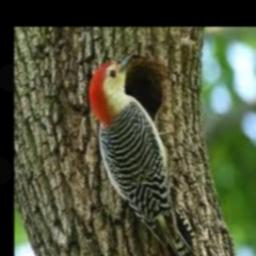Woodpecker: (89, 52, 205, 256)
